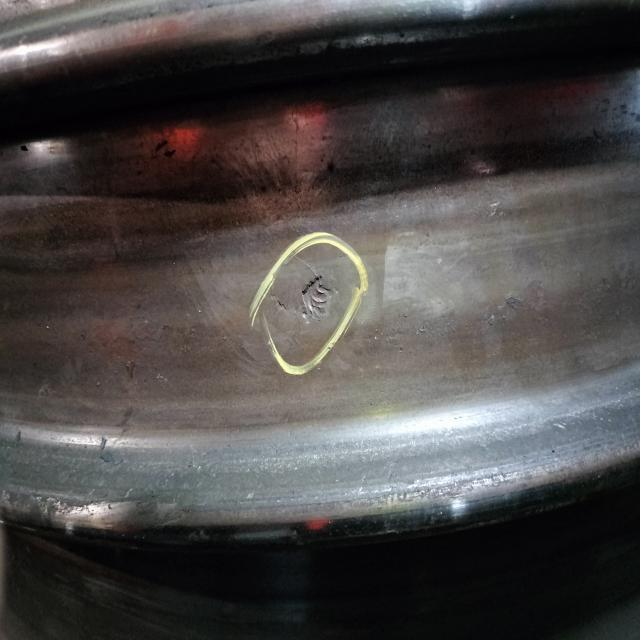Peeling: (271, 275, 341, 326)
